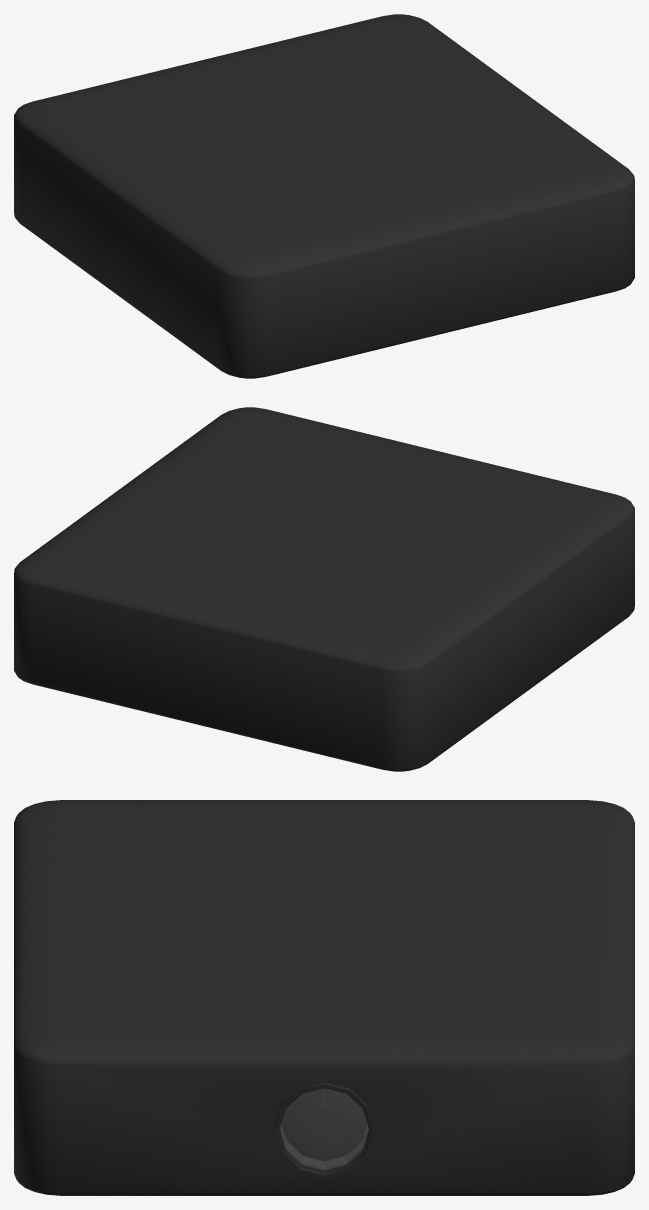
File: projector.glb
3 views of the same model, one above another, from view 1: azimuth 30°, elevation 25°; view 2: azimuth 150°, elevation 25°; view 3: azimuth 270°, elevation 25° (orthographic). The views are drawn at different scales.
Parts seen in each view (by area): view 1: projector; view 2: projector; view 3: projector.
Part boxes in pixels (<box>): projector: <box>14,14,634,378</box>; projector: <box>14,407,634,771</box>; projector: <box>14,800,634,1195</box>.
Bounding box in the file's own units: 0.1512 × 0.04 × 0.15.
2 materials, 2 textured.
